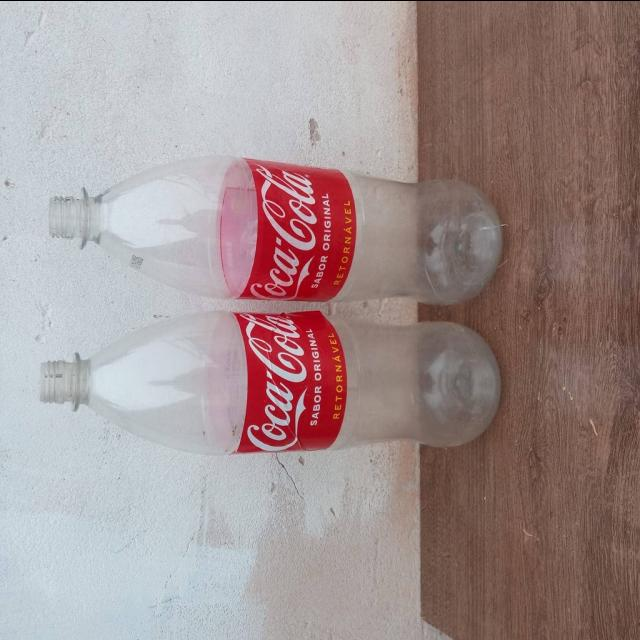bottom: (422, 161, 504, 310), (430, 306, 504, 452)
no_cap: (41, 328, 97, 432), (42, 166, 103, 260)
